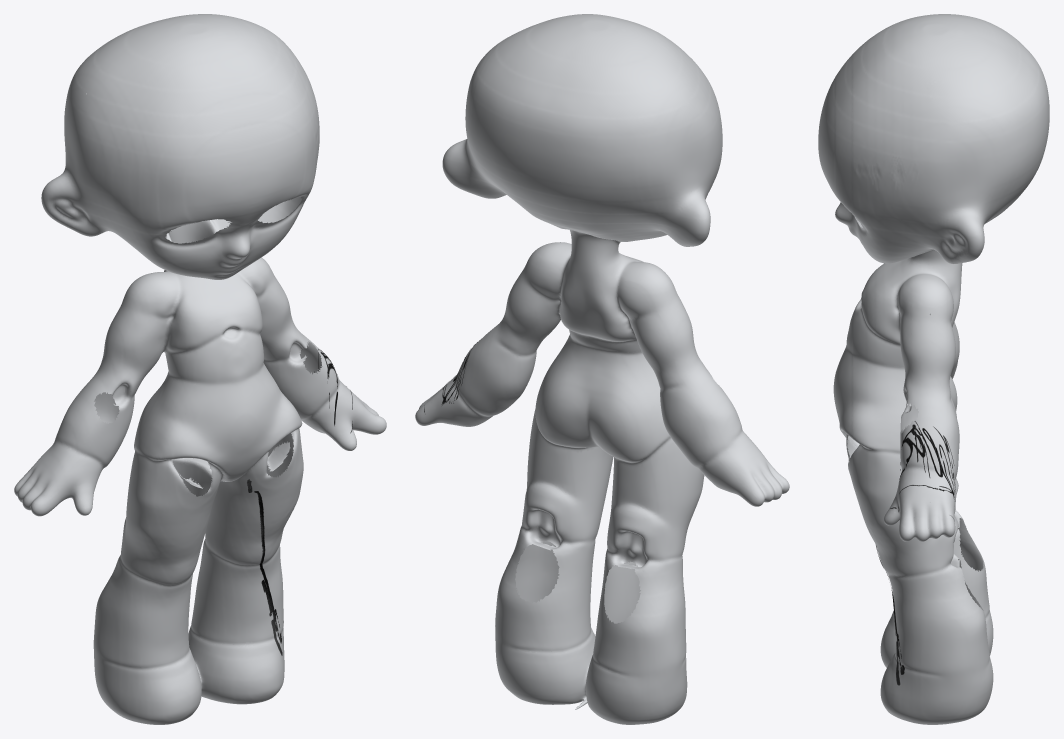
Rendered from character.glb.
3 renders of one model, left to right at view 1: azimuth 30°, elevation 25°; view 2: azimuth 150°, elevation 25°; view 3: azimuth 270°, elevation 25°, orthographic.
Parts seen in each view (by area): view 1: doll, tattoo_leg; view 2: doll; view 3: doll, tattoo_hand.
Part boxes in pixels (x1,y1,x2,y2): doll: [14, 14, 386, 724]; tattoo_leg: [247, 479, 282, 655]; doll: [415, 14, 789, 724]; doll: [818, 14, 1049, 724]; tattoo_hand: [890, 421, 955, 518].
Bounding box in the file's own units: 1.11 × 1.99 × 0.6342.
Materials: 3 (2 with a texture image).
